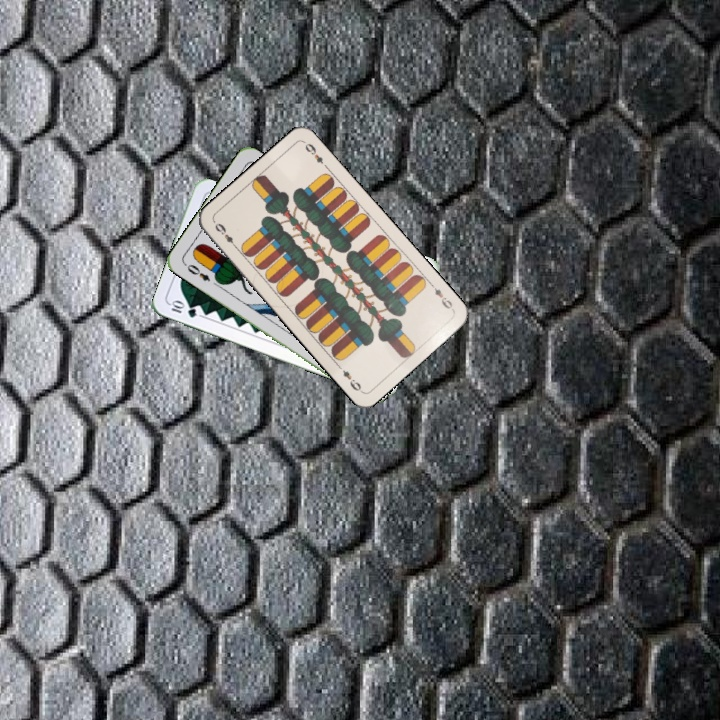E9: (210, 218, 241, 252), (426, 279, 456, 313)
EO: (180, 259, 213, 284)
G10: (166, 297, 199, 320)
